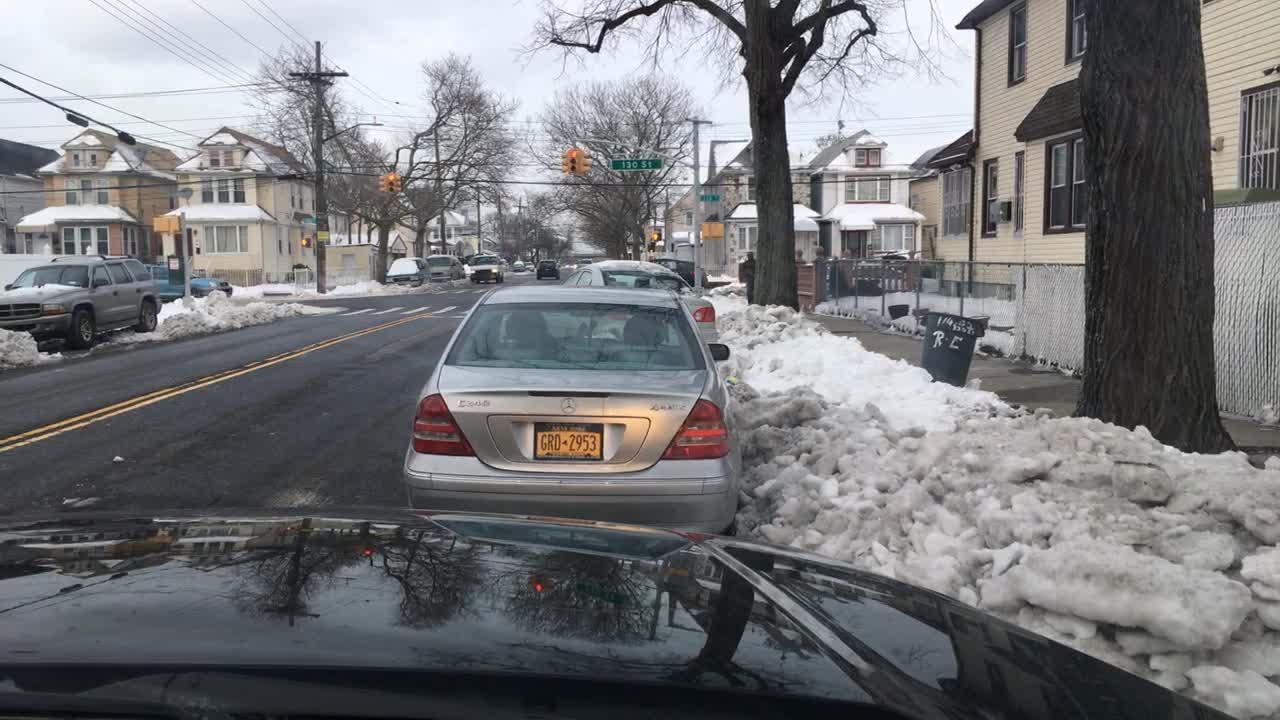Mercedes: (558, 396, 579, 417)
